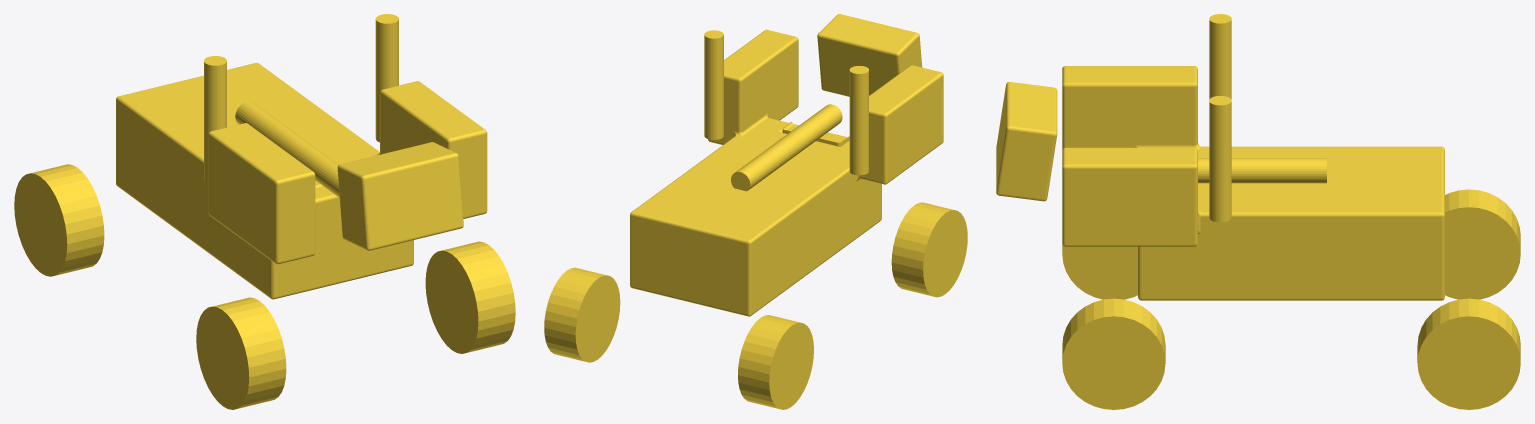
The model's file is cart.glb.
The picture shows the model from 3 angles, left to right: view 1: azimuth 30°, elevation 25°; view 2: azimuth 150°, elevation 25°; view 3: azimuth 270°, elevation 25°; orthographic projection. The views are drawn at different scales.
Visible parts, largest first — view 1: Cart; view 2: Cart; view 3: Cart.
Boxes of the visible parts, bbox=[...] form: Cart: bbox=[14, 14, 515, 409]; Cart: bbox=[544, 14, 967, 409]; Cart: bbox=[996, 14, 1520, 409].
Size of the model in its own units: 0.93 by 0.98 by 1.62.
